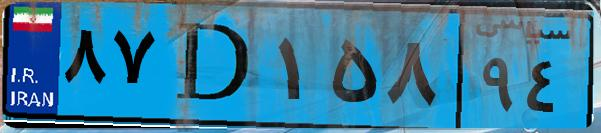1: (270, 28, 330, 110)
4: (525, 38, 570, 115)
5: (330, 28, 385, 110)
7: (110, 28, 158, 98)
8: (385, 28, 445, 110), (57, 26, 110, 100)
9: (475, 38, 525, 113)
D: (158, 12, 270, 120)
